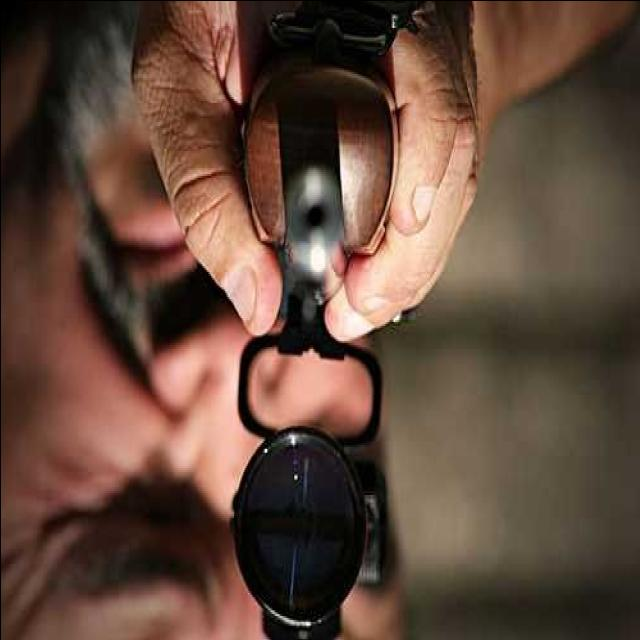heavyweapon: (210, 5, 415, 640)
